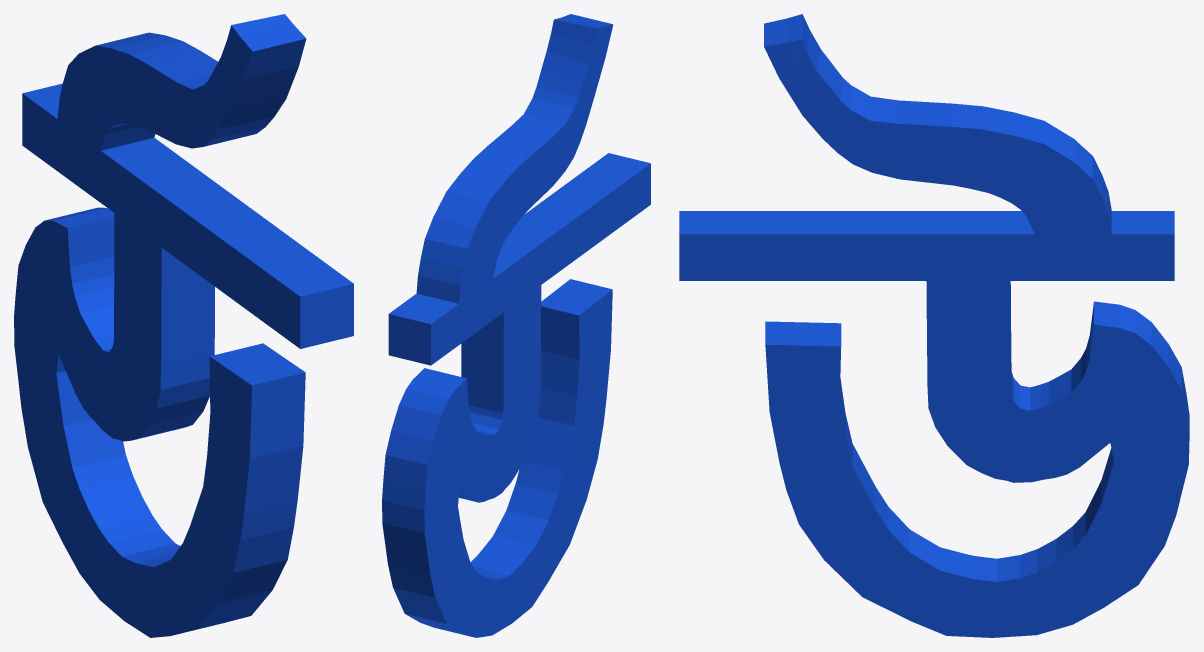
3 renders of one model, left to right at view 1: azimuth 30°, elevation 25°; view 2: azimuth 150°, elevation 25°; view 3: azimuth 270°, elevation 25°, orthographic. The views are drawn at different scales.
Visible parts, largest first — view 1: Cube; view 2: Cube; view 3: Cube.
Part boxes in pixels (x1,y1,x2,y2): Cube: (14, 14, 353, 637); Cube: (382, 14, 650, 637); Cube: (679, 14, 1189, 637).
Bounding box in the file's own units: 105 × 1223 × 941.
